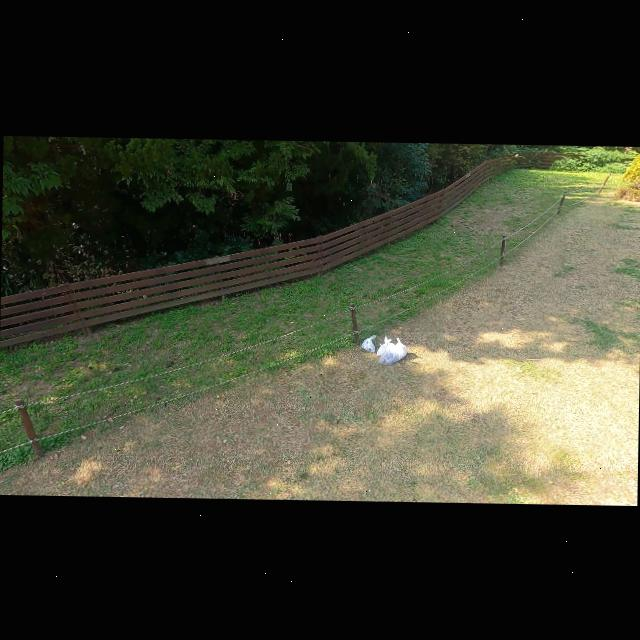trash: (376, 336, 406, 364), (392, 334, 409, 358), (376, 333, 394, 355), (358, 334, 375, 352)
